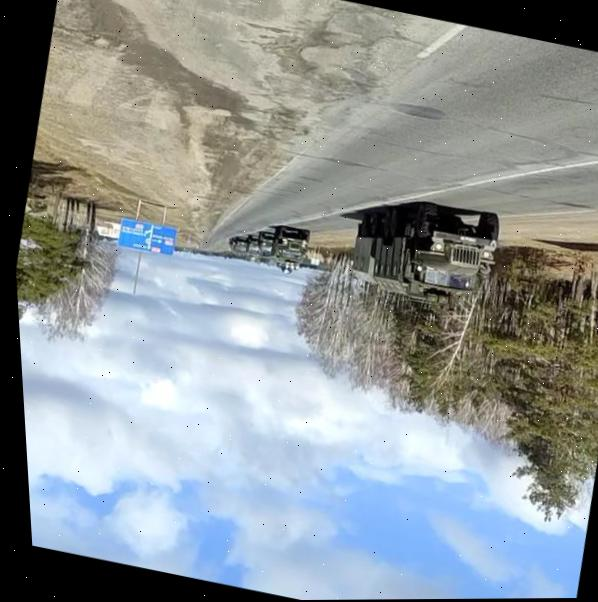truck: (334, 184, 511, 313), (267, 222, 317, 273), (245, 230, 281, 262)
